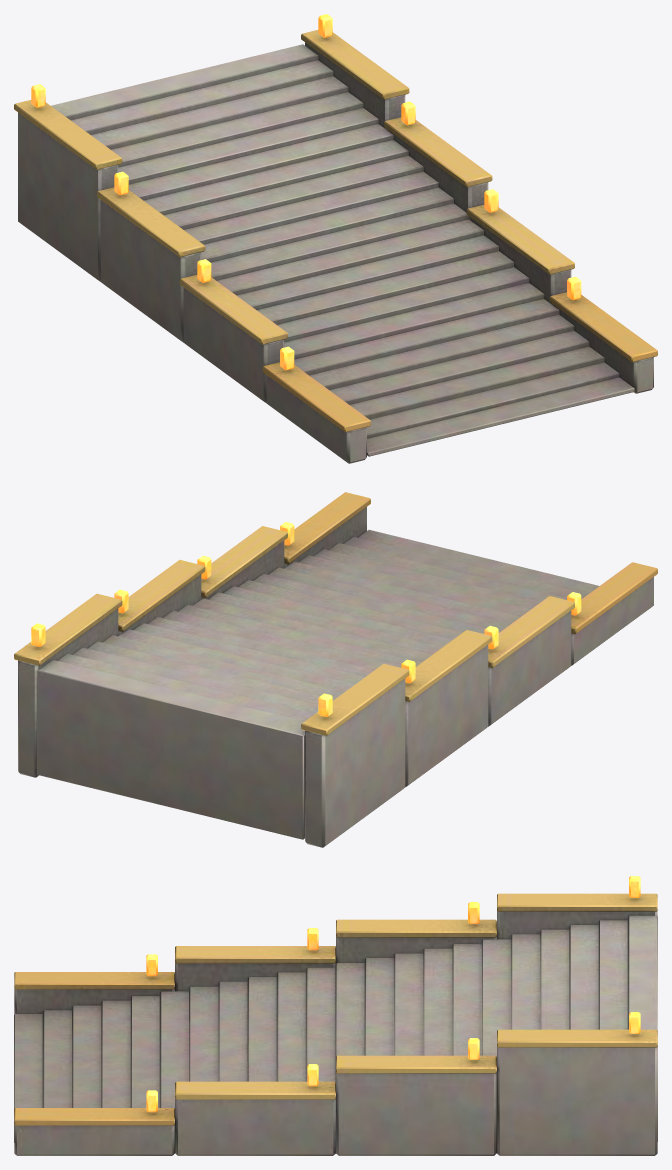
The model's file is ramp2.glb.
3 renders of one model, top to bottom at view 1: azimuth 30°, elevation 25°; view 2: azimuth 150°, elevation 25°; view 3: azimuth 270°, elevation 25°, orthographic. The views are drawn at different scales.
Visible parts, largest first — view 1: ramp2; view 2: ramp2; view 3: ramp2.
Boxes of the visible parts, box(x1,y1,x2,y2) form: ramp2: box(14, 14, 657, 463); ramp2: box(14, 492, 657, 847); ramp2: box(14, 876, 657, 1155).
Size of the model in its own units: 15.3 by 6.65 by 28.02.
Materials: 1 (1 with a texture image).
